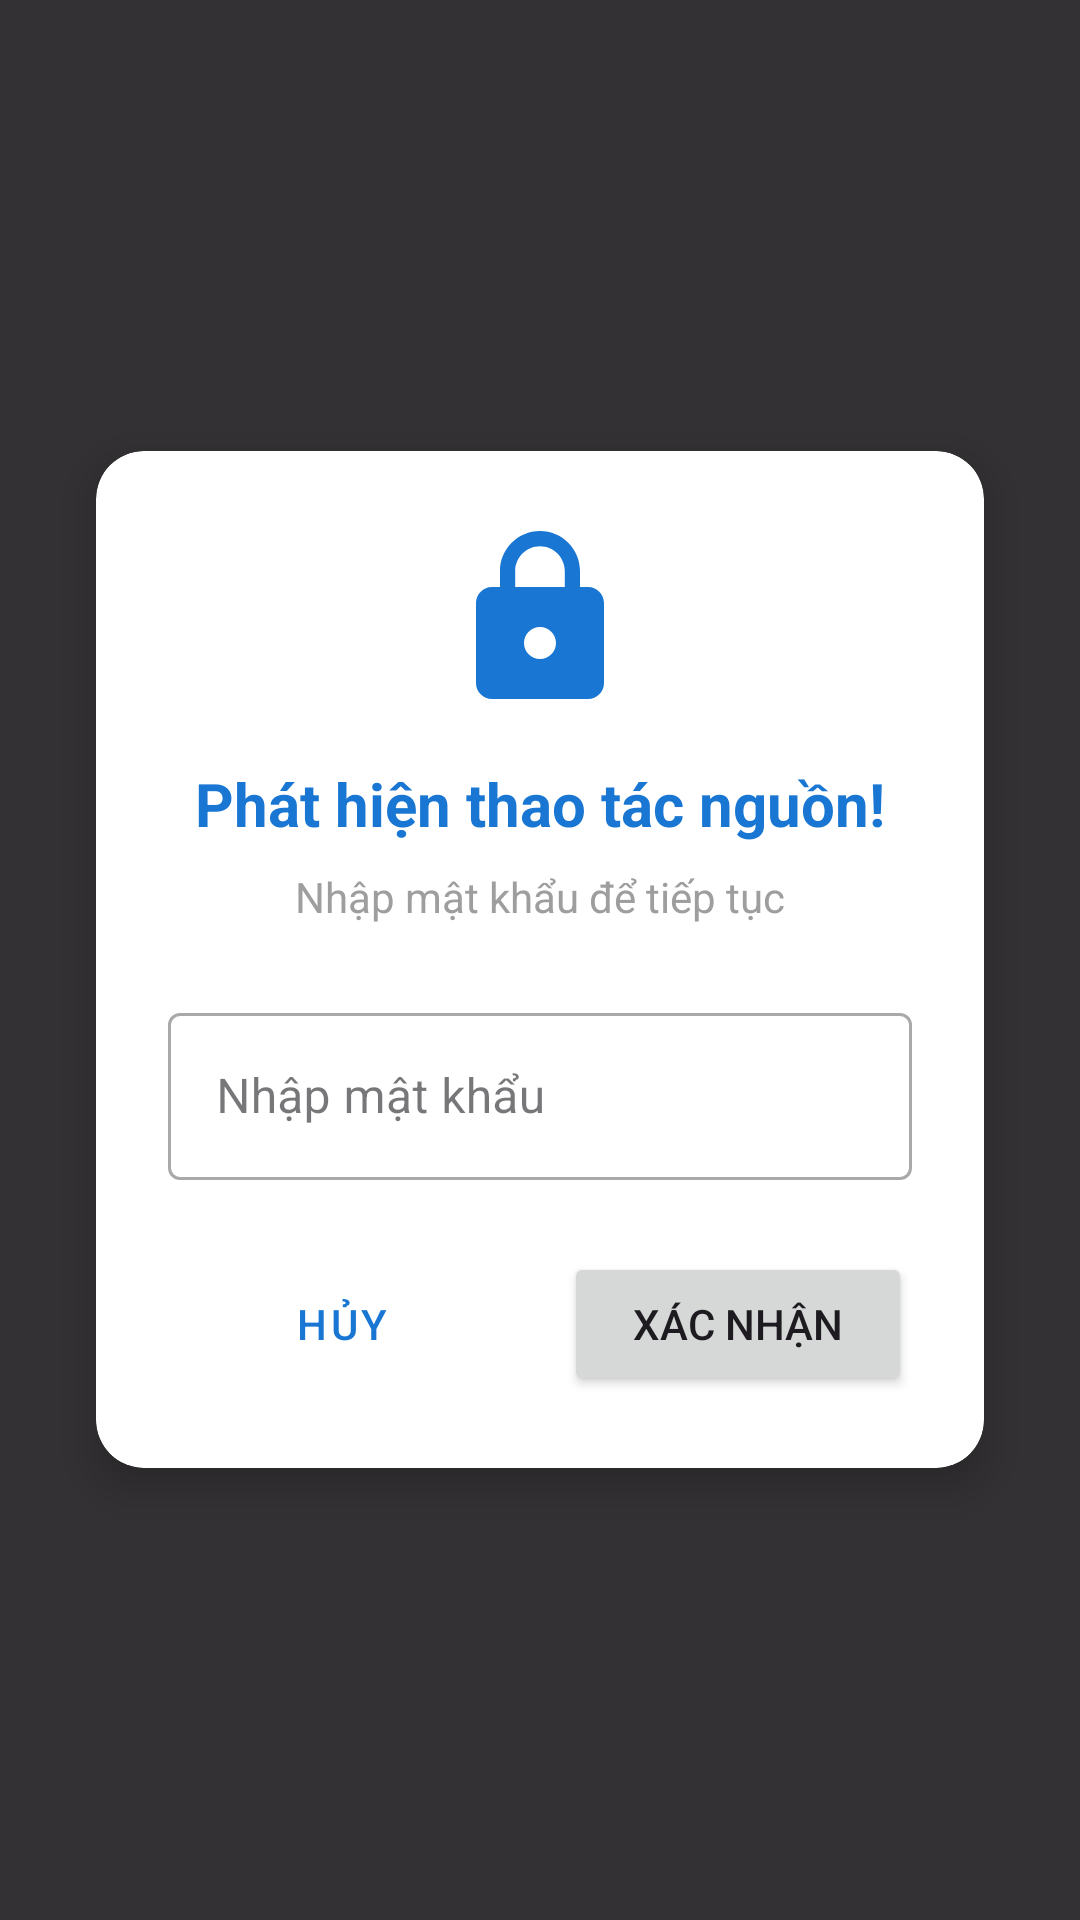

Icons on this 1080 × 1920 Android screen, each with its box as [left=x1, top=y1, right=x2, bottom=y2]:
Lock icon: [left=476, top=531, right=604, bottom=699]
